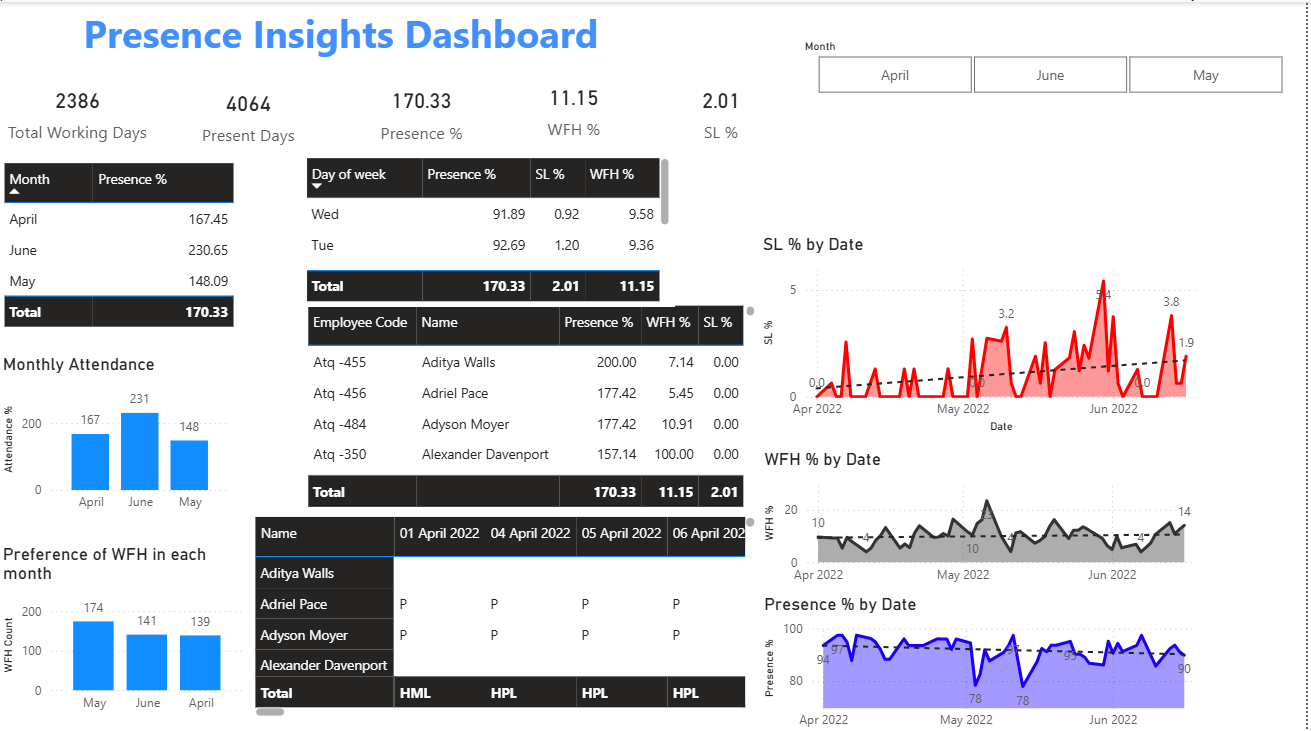

The page's visual inventory and layout, read from the dashboard file:
{"tool":"powerbi","page":{"name":"Page 1","canvas":[1280,720],"ordinal":0},"visuals":[{"type":"card","fields":{"Values":["Measure Table.Total Working Days"]},"box":[0,66,156,82],"z":0},{"type":"card","fields":{"Values":["Measure Table.Total Present Days"]},"box":[154,72,182,76],"z":1000},{"type":"card","fields":{"Values":["Measure Table.Presence %"]},"box":[332,70,164,76],"z":2000},{"type":"slicer","fields":{"Values":["Final Data.Month"]},"box":[776,32,504,64],"z":3000},{"type":"tableEx","fields":{"Values":["Final Data.Month","Measure Table.Presence %"]},"box":[0,153.3,245,190],"z":4000},{"type":"card","fields":{"Values":["Measure Table.WFH %"]},"box":[480,64,166,82],"z":5000},{"type":"card","fields":{"Values":["Measure Table.SL %"]},"box":[640,66,136,82],"z":6000},{"type":"pivotTable","fields":{"Rows":["Final Data.Name"],"Values":["Final Data.Value"],"Columns":["Final Data.Date"]},"box":[246.7,498.3,498.3,205],"z":7000},{"type":"columnChart","title":"Monthly Attendance","fields":{"Category":["Final Data.Month"],"Y":["Measure Table.Presence %"]},"box":[0,344,232,164],"z":8000},{"type":"columnChart","title":"Preference of WFH in each month","fields":{"Category":["Final Data.Month"],"Y":["Measure Table.WFH Count"]},"box":[0,530,246,174],"z":9000},{"type":"textbox","box":[8,0,654,66],"z":10000},{"type":"tableEx","fields":{"Values":["Final Data.Employee Code","Final Data.Name","Measure Table.Presence %","Measure Table.WFH %","Measure Table.SL %"]},"box":[296.7,291.7,448.3,206.7],"z":11000},{"type":"areaChart","fields":{"Y":["Measure Table.Presence %"],"Category":["Final Data.Date"]},"box":[745,578.3,445,141.7],"z":12000},{"type":"areaChart","fields":{"Category":["Final Data.Date"],"Y":["Measure Table.SL %"]},"box":[744,226,448,200],"z":13000},{"type":"areaChart","fields":{"Category":["Final Data.Date"],"Y":["Measure Table.WFH %"]},"box":[745,436.7,445,141.7],"z":14000},{"type":"tableEx","fields":{"Values":["Final Data.Day of week","Measure Table.Presence %","Measure Table.SL %","Measure Table.WFH %"]},"box":[296,148,366,150],"z":14001}]}

Visuals, with their boxes in screenshot pixels (x1, y1, x2, y2), scaled from the page's 1280x720 canvas onto the 1311x731 screenshot:
card - Measure Table.Total Working Days: left=0, top=67, right=160, bottom=150
card - Measure Table.Total Present Days: left=158, top=73, right=344, bottom=150
card - Measure Table.Presence %: left=340, top=71, right=508, bottom=148
slicer - Final Data.Month: left=795, top=32, right=1310, bottom=97
tableEx - Final Data.Month x Measure Table.Presence %: left=0, top=156, right=251, bottom=349
card - Measure Table.WFH %: left=492, top=65, right=662, bottom=148
card - Measure Table.SL %: left=656, top=67, right=795, bottom=150
pivotTable - Final Data.Name x Final Data.Value: left=253, top=506, right=763, bottom=714
"Monthly Attendance" columnChart: left=0, top=349, right=238, bottom=516
"Preference of WFH in each month" columnChart: left=0, top=538, right=252, bottom=715
textbox: left=8, top=0, right=678, bottom=67
tableEx - Final Data.Employee Code x Final Data.Name: left=304, top=296, right=763, bottom=506
areaChart - Measure Table.Presence % x Final Data.Date: left=763, top=587, right=1219, bottom=730
areaChart - Final Data.Date x Measure Table.SL %: left=762, top=229, right=1221, bottom=433
areaChart - Final Data.Date x Measure Table.WFH %: left=763, top=443, right=1219, bottom=587
tableEx - Final Data.Day of week x Measure Table.Presence %: left=303, top=150, right=678, bottom=303
